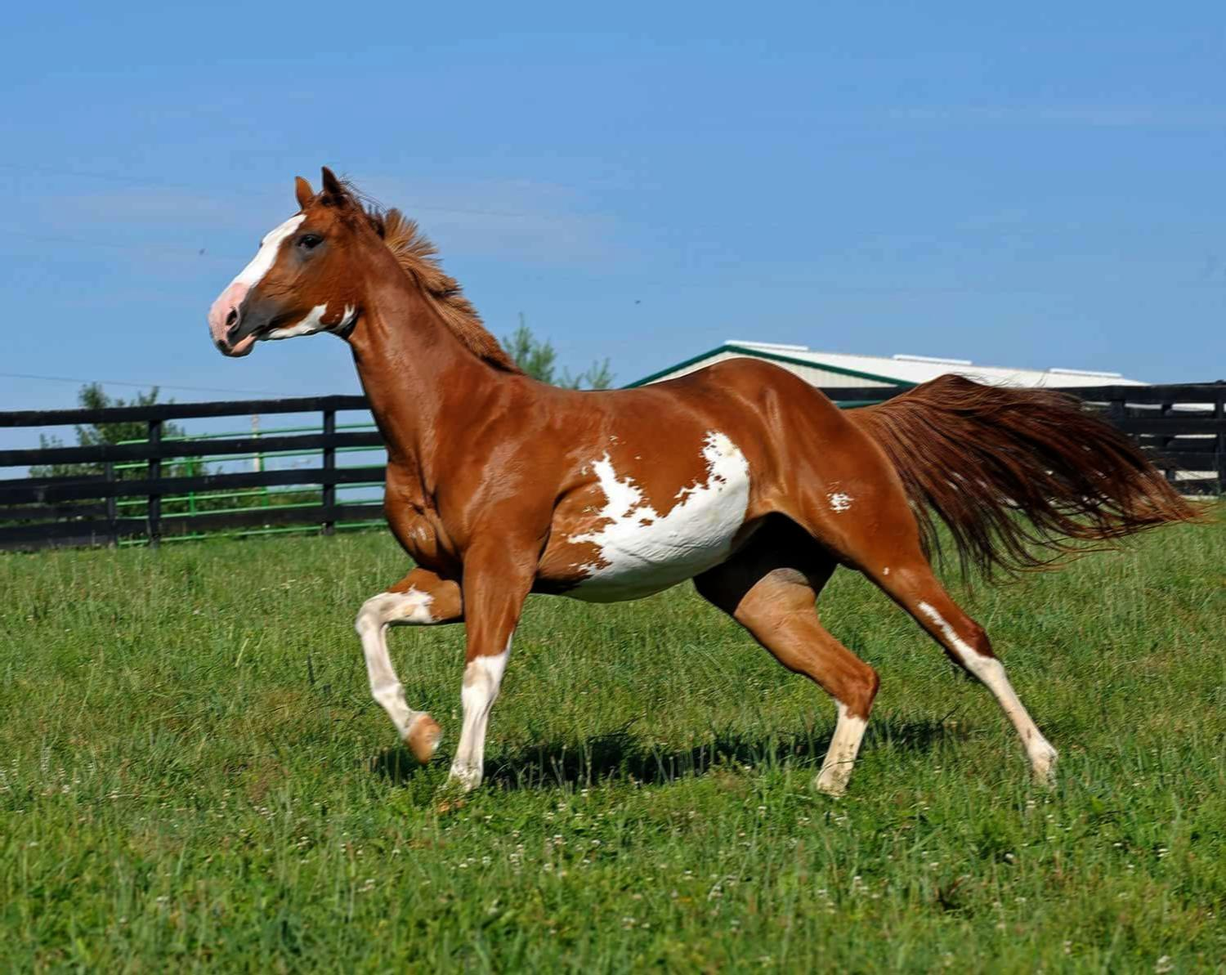horse: (197, 154, 1221, 823)
